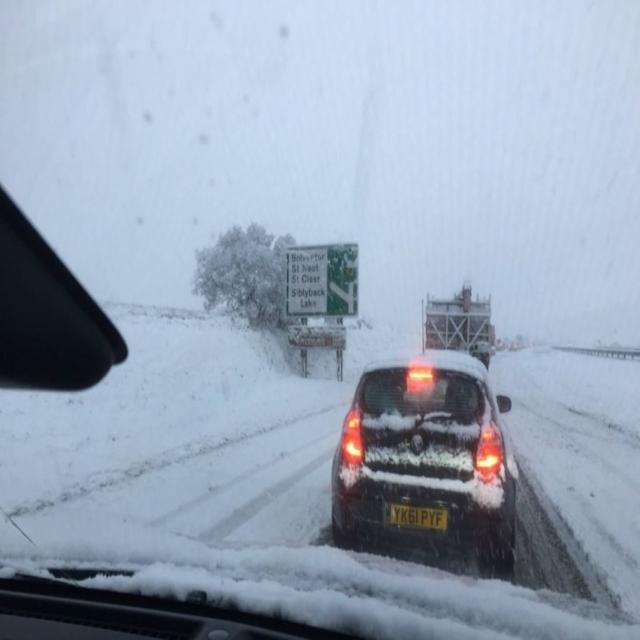bus: (418, 286, 494, 374)
car: (330, 354, 517, 573)
